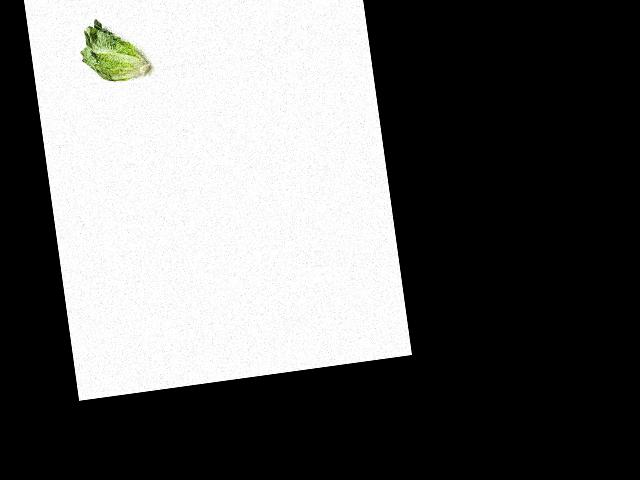lettuce: (73, 13, 150, 88)
